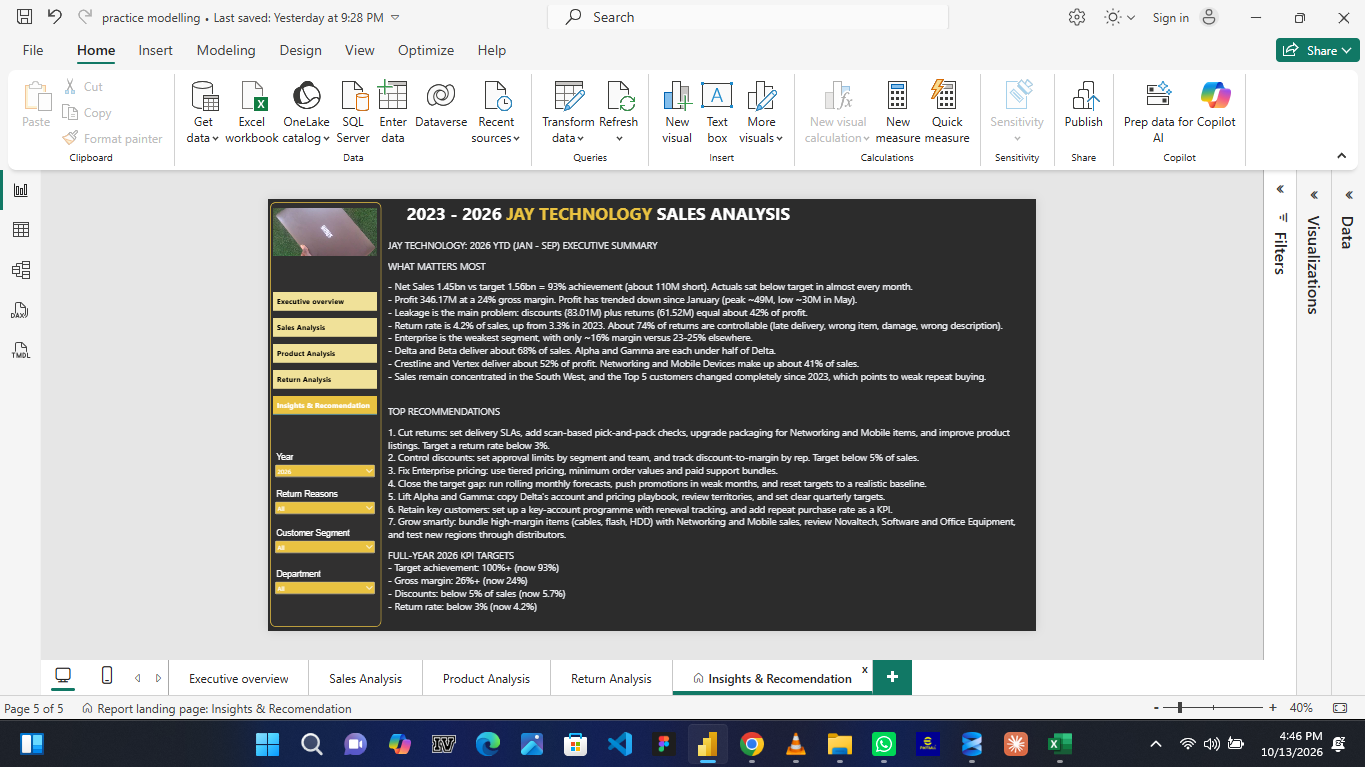

This screenshot's page, from the dashboard's own definition file:
{"tool":"powerbi","page":{"name":"Insights & Recomendation","canvas":[1920,1080],"ordinal":4},"visuals":[{"type":"shape","box":[4.3,8.6,278.6,1062.7],"z":0},{"type":"textbox","box":[300.2,8.6,1051.9,60.5],"z":1000},{"type":"slicer","fields":{"Values":["dim_date.year"]},"box":[12.5,632.5,260,75],"z":4000},{"type":"slicer","fields":{"Values":["fact_returns.return_reason"]},"box":[12.5,725,260,75],"z":9000},{"type":"slicer","fields":{"Values":["dim_customer.customer_segments"]},"box":[12.5,822.5,260,72.5],"z":10000},{"type":"slicer","fields":{"Values":["dim_product.department"]},"box":[12.5,925,260,72.5],"z":11000},{"type":"pageNavigator","box":[12.5,232.5,260,307.5],"z":12000},{"type":"image","box":[12.5,22.5,260,120],"z":14000},{"type":"textbox","box":[300,100,1587.5,970],"z":14001}]}

Visuals, with their boxes on the page's 1920x1080 design canvas (x1, y1, x2, y2). These are canvas units, not pixel positions in the 1365x767 screenshot, which may show the page scaled, cropped or inside an application window:
shape: 4,9,283,1071
textbox: 300,9,1352,69
slicer - dim_date.year: 12,632,272,708
slicer - fact_returns.return_reason: 12,725,272,800
slicer - dim_customer.customer_segments: 12,822,272,895
slicer - dim_product.department: 12,925,272,998
pageNavigator: 12,232,272,540
image: 12,22,272,142
textbox: 300,100,1888,1070
